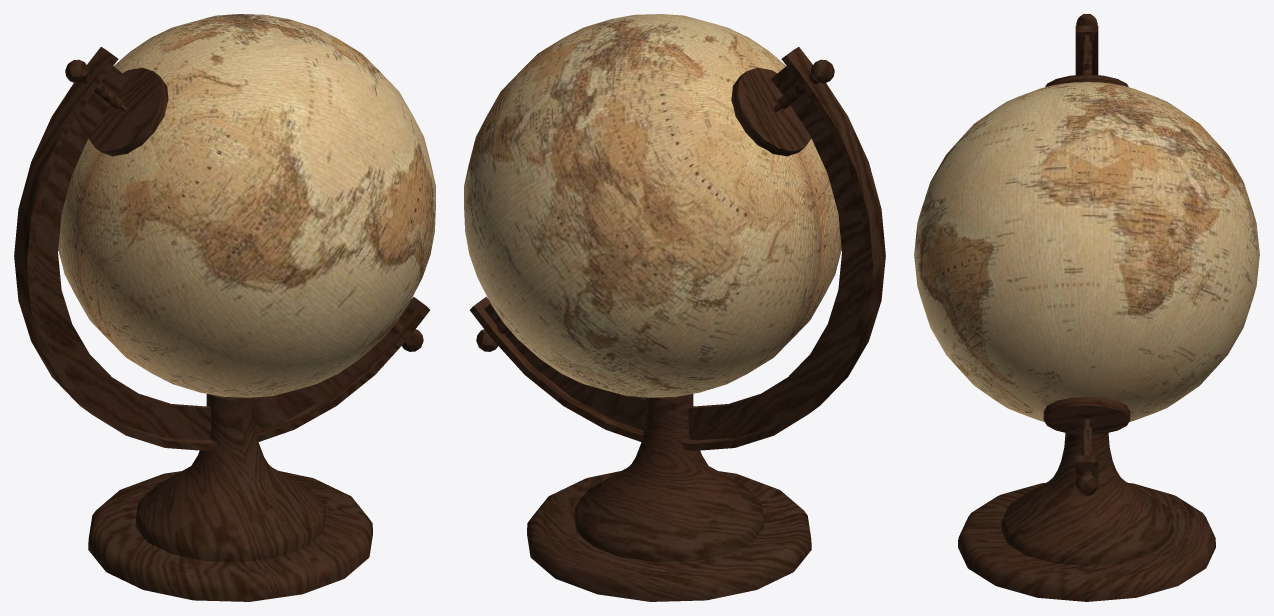
File: globe_antique.glb
The picture shows the model from 3 angles, left to right: view 1: azimuth 30°, elevation 25°; view 2: azimuth 150°, elevation 25°; view 3: azimuth 270°, elevation 25°; orthographic projection. The views are drawn at different scales.
Visible parts, largest first — view 1: Object_2; view 2: Object_2; view 3: Object_2.
Boxes of the visible parts, left/top/right/bottom form: Object_2: left=14, top=14, right=435, bottom=601; Object_2: left=464, top=14, right=885, bottom=601; Object_2: left=914, top=14, right=1259, bottom=601.
Bounding box in the file's own units: 2.42 × 2.98 × 2.
Materials: 1 (1 with a texture image).
